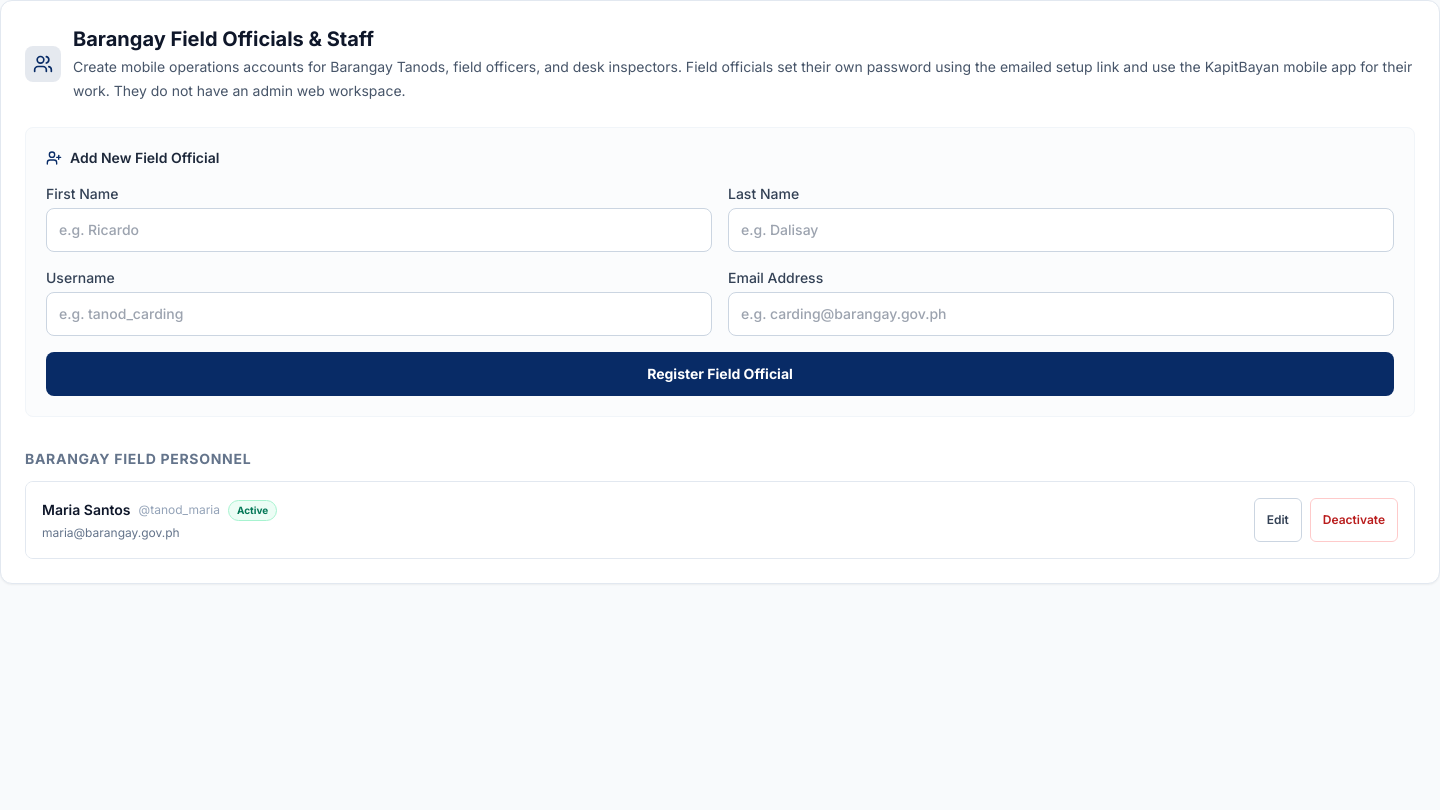
StaffManagementSettings › discards staged profile changes on cancel without sending a request
Expected: the heading "Maria Santos" is shown, [42,500,131,520]
Click the button with aria-label "Edit Maria Santos": coordinates (1278, 520) [1254,498,1302,542]
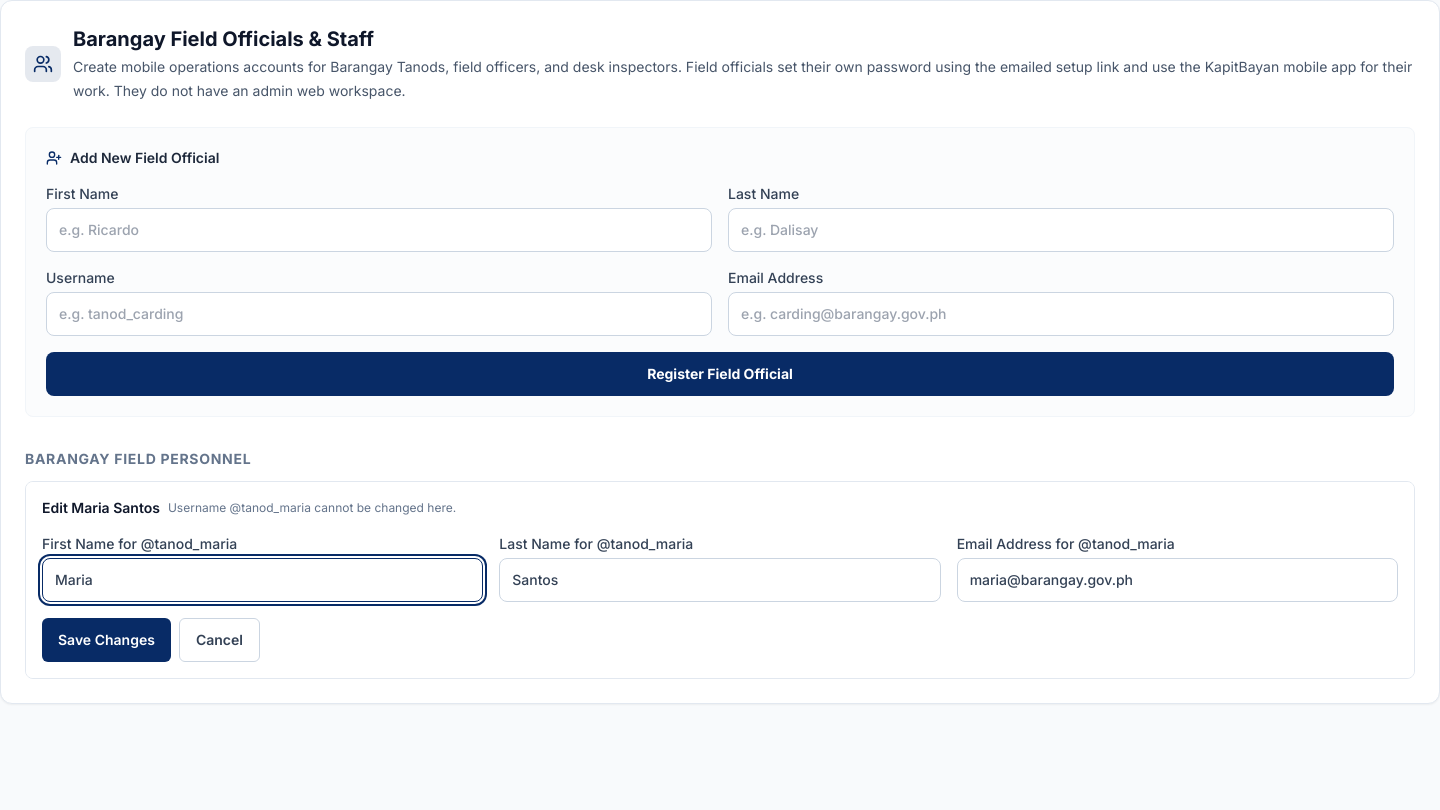
Replace the text in the field labelled "First Name for @tanod_maria" with "Changed Draft": coordinates (263, 580) [42,558,483,602]
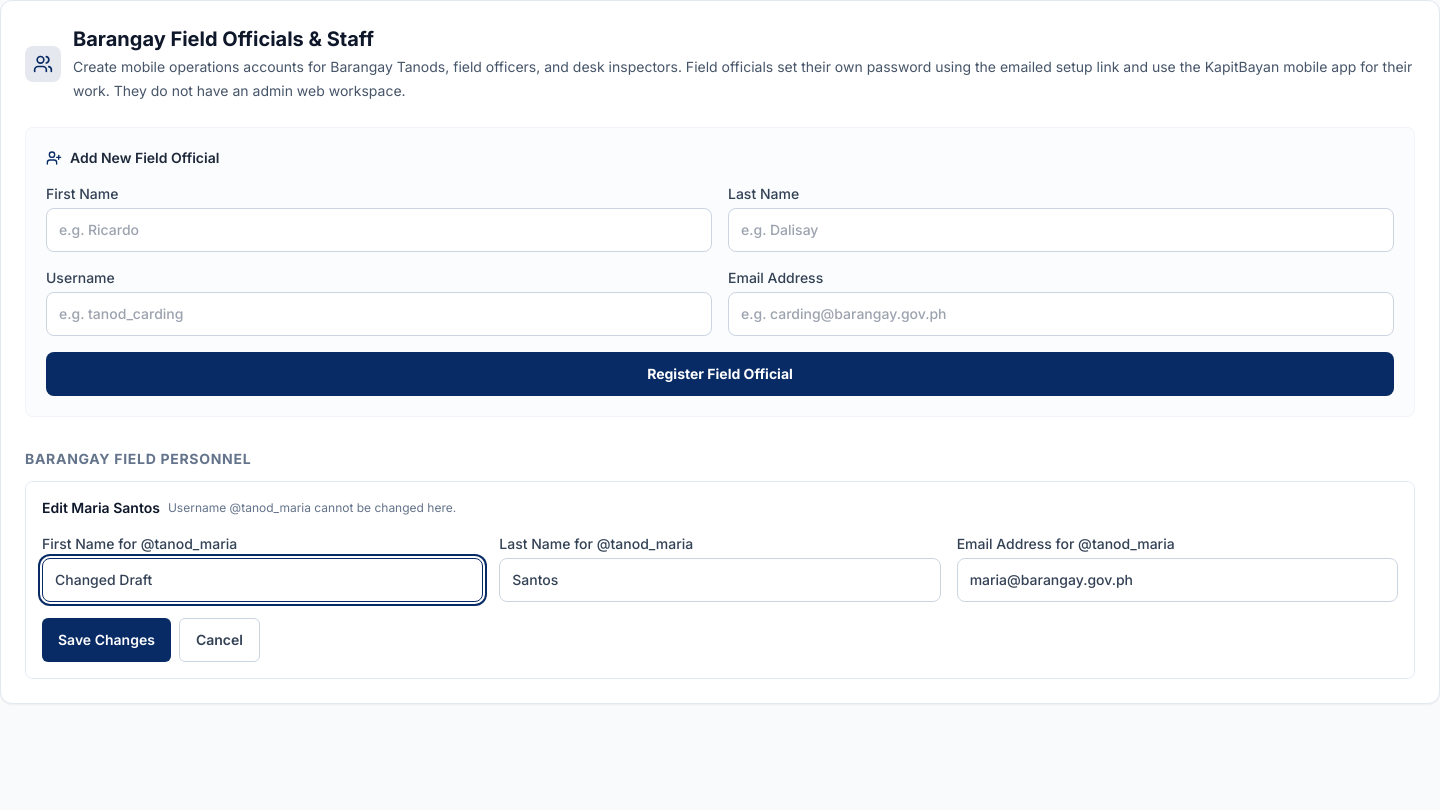
Click the button "Cancel": coordinates (219, 640) [179,618,260,662]
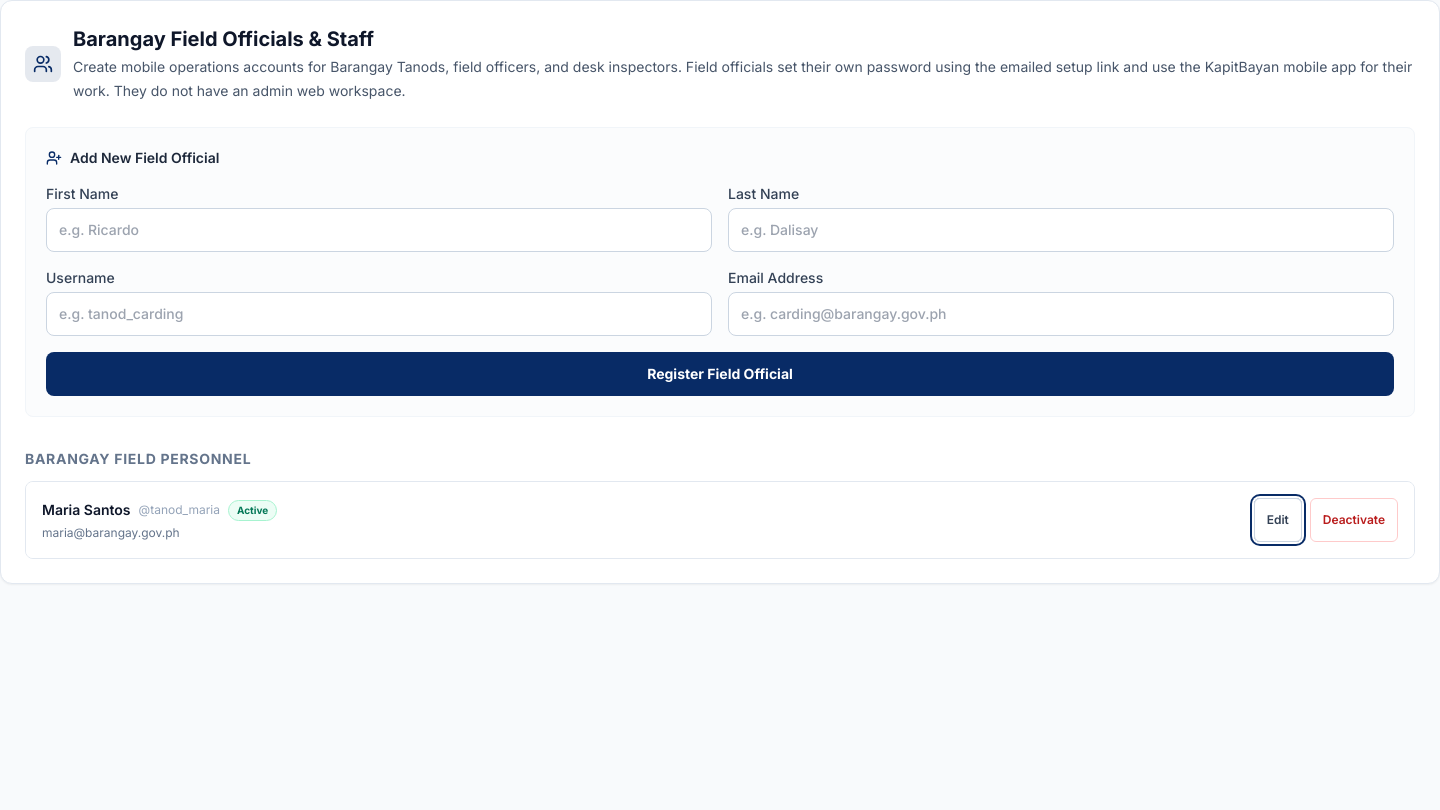
Expected: the heading "Maria Santos" is shown, [42,500,131,520]
Result: the label labelled "First Name for @tanod_maria" is gone
